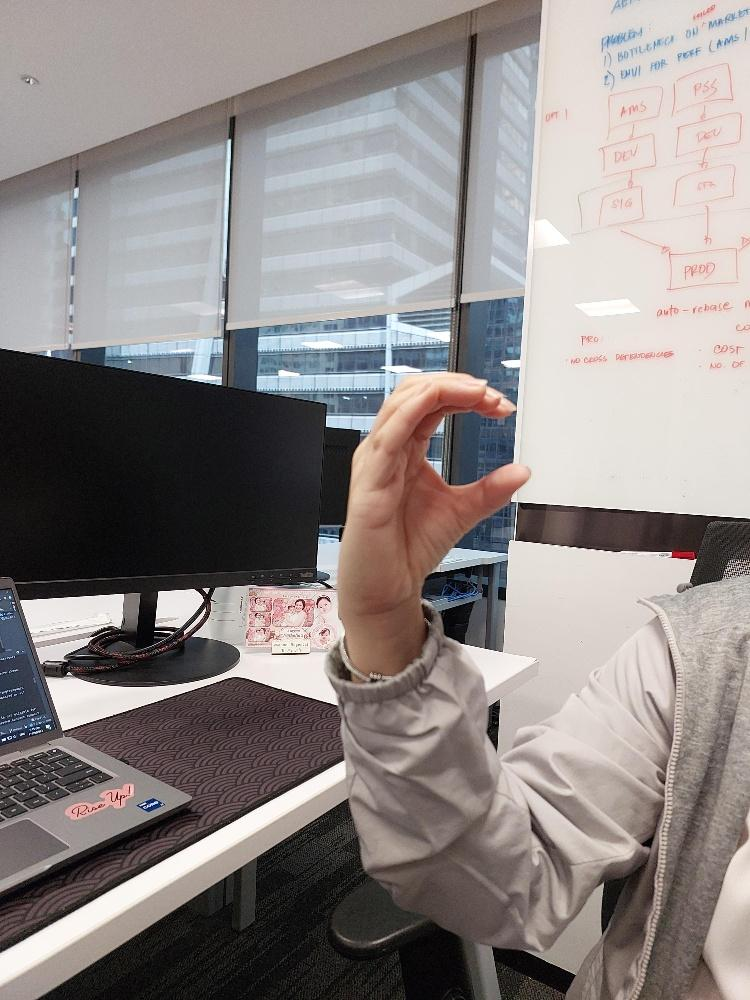c: (333, 371, 530, 607)
